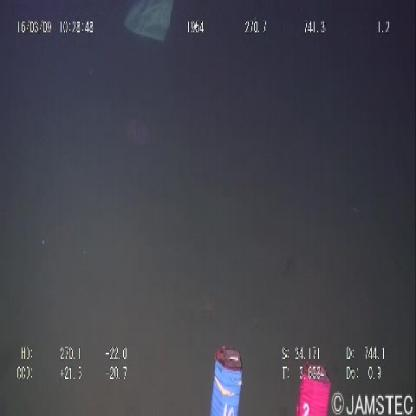Rác: (121, 1, 175, 50)
